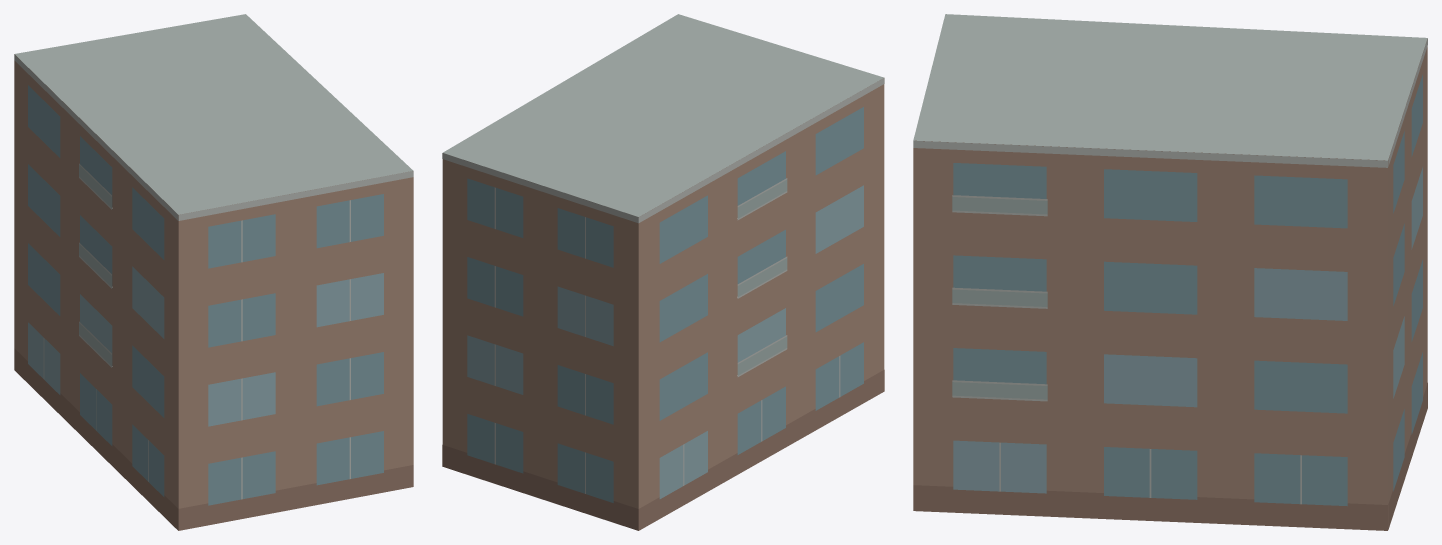
File: survey-upis-32992580.glb
The picture shows the model from 3 angles, left to right: view 1: azimuth 30°, elevation 25°; view 2: azimuth 150°, elevation 25°; view 3: azimuth 270°, elevation 25°; orthographic projection. The views are drawn at different scales.
Visible parts, largest first — view 1: survey-upis-32992580.tmp; view 2: survey-upis-32992580.tmp; view 3: survey-upis-32992580.tmp.
Part boxes in pixels (x1=…): survey-upis-32992580.tmp: x1=14, y1=14, x2=413, y2=530; survey-upis-32992580.tmp: x1=442, y1=14, x2=884, y2=530; survey-upis-32992580.tmp: x1=913, y1=14, x2=1427, y2=530.
Size of the model in its own units: 10.45 by 12.3 by 15.5.
